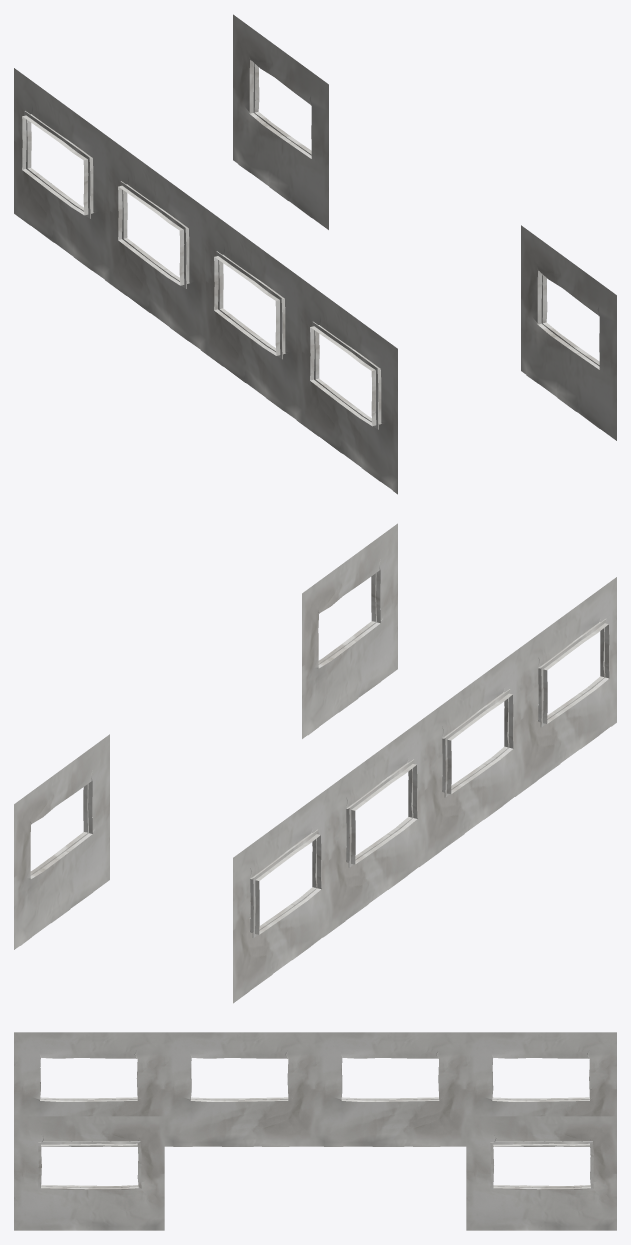
Rendered from MurosVagonBar1.FBX.
3 renders of one model, top to bottom at view 1: azimuth 30°, elevation 25°; view 2: azimuth 150°, elevation 25°; view 3: azimuth 270°, elevation 25°, orthographic. The views are drawn at different scales.
Visible parts, largest first — view 1: Ventana; view 2: Ventana; view 3: Ventana.
Boxes of the visible parts, <box> form: Ventana: <box>14,14,616,494</box>; Ventana: <box>14,523,616,1003</box>; Ventana: <box>14,1032,616,1230</box>.
Bounding box in the file's own units: 574 × 337 × 1610.
